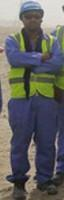hat: (14, 1, 50, 36)
vest: (3, 27, 63, 102), (55, 24, 64, 116)
